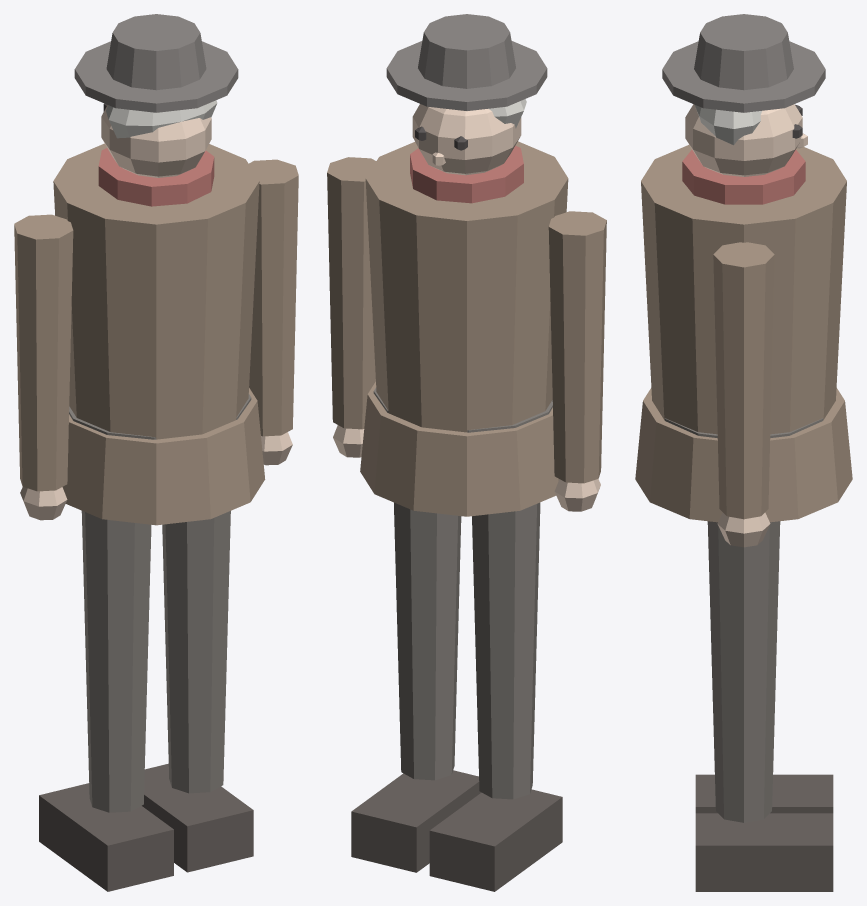
The model's file is npc_jean.glb.
3 views of the same model, side by side, from view 1: azimuth 30°, elevation 25°; view 2: azimuth 150°, elevation 25°; view 3: azimuth 270°, elevation 25° (orthographic).
Visible parts, largest first — view 1: Torso, LegL, LegR, Head, ArmL, ArmR; view 2: Torso, LegL, LegR, Head, ArmL, ArmR; view 3: Torso, LegR, Head, ArmR, LegL.
Part boxes in pixels (x1,y1,x2,y2): Torso: (53, 143, 265, 525); LegL: (39, 511, 173, 891); LegR: (142, 511, 253, 872); Head: (74, 14, 238, 177); ArmL: (14, 214, 73, 520); ArmR: (249, 159, 298, 465); Torso: (360, 141, 568, 516); LegL: (429, 502, 562, 891); LegR: (351, 502, 481, 872); Head: (386, 14, 547, 175); ArmL: (548, 211, 606, 511); ArmR: (327, 157, 376, 457); Torso: (635, 145, 852, 522); LegR: (695, 521, 833, 891); Head: (662, 14, 825, 176); ArmR: (713, 242, 774, 547); LegL: (695, 774, 833, 813).
Bounding box in the file's own units: 0.63 × 1.78 × 0.426.
